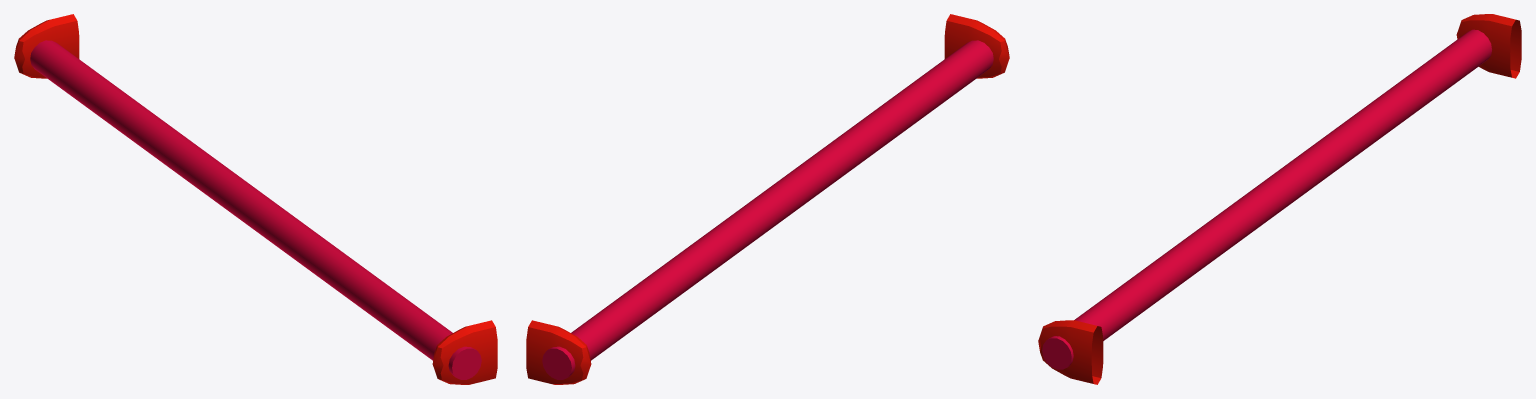
File: PanHandler.fbx
3 renders of one model, left to right at view 1: azimuth 30°, elevation 25°; view 2: azimuth 150°, elevation 25°; view 3: azimuth 330°, elevation 25°, orthographic.
Parts seen in each view (by area): view 1: PanHandler; view 2: PanHandler; view 3: PanHandler.
Boxes of the visible parts, x1,y1,x2,y2 form: PanHandler: [14, 14, 497, 384]; PanHandler: [526, 14, 1009, 384]; PanHandler: [1038, 14, 1521, 384].
Size of the model in its own units: 15.79 by 200 by 15.05.
